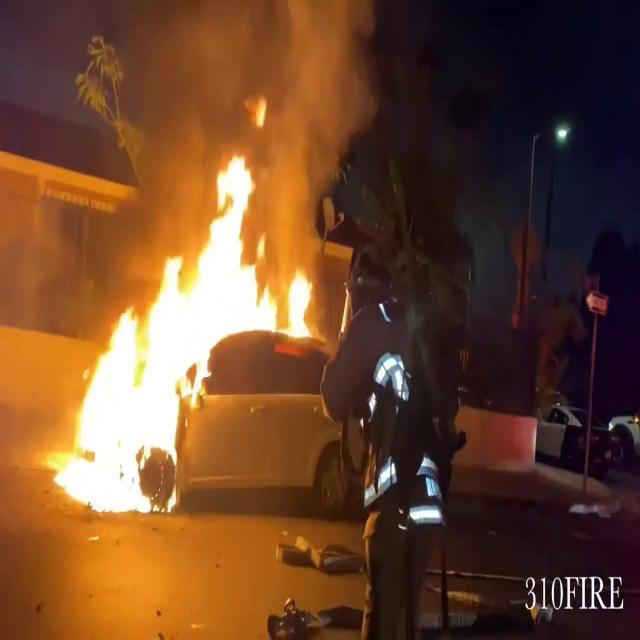Fire: (44, 144, 320, 520)
Smoke: (198, 0, 392, 208)
